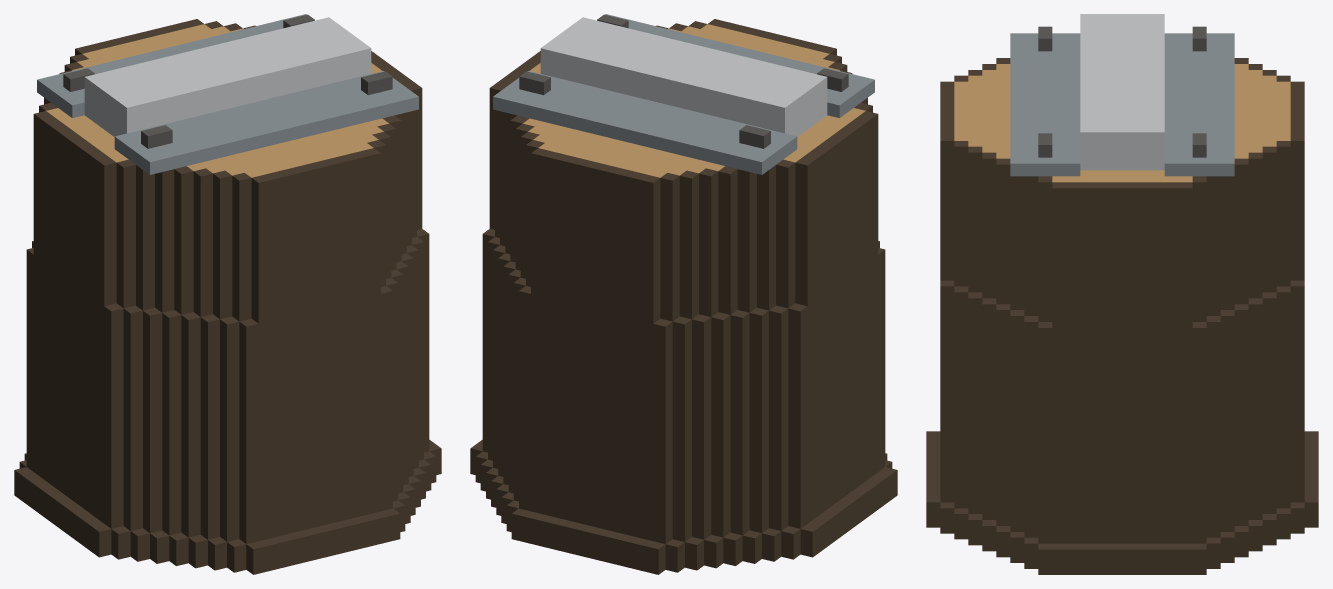
File: anvil_stump.glb
The picture shows the model from 3 angles, left to right: view 1: azimuth 30°, elevation 25°; view 2: azimuth 150°, elevation 25°; view 3: azimuth 270°, elevation 25°; orthographic projection.
Parts seen in each view (by area): view 1: anvil_stump:compound; view 2: anvil_stump:compound; view 3: anvil_stump:compound.
Boxes of the visible parts, <box> form: anvil_stump:compound: <box>14,14,441,574</box>; anvil_stump:compound: <box>470,14,897,574</box>; anvil_stump:compound: <box>926,14,1318,574</box>.
Bounding box in the file's own units: 0.28 × 0.33 × 0.28.
